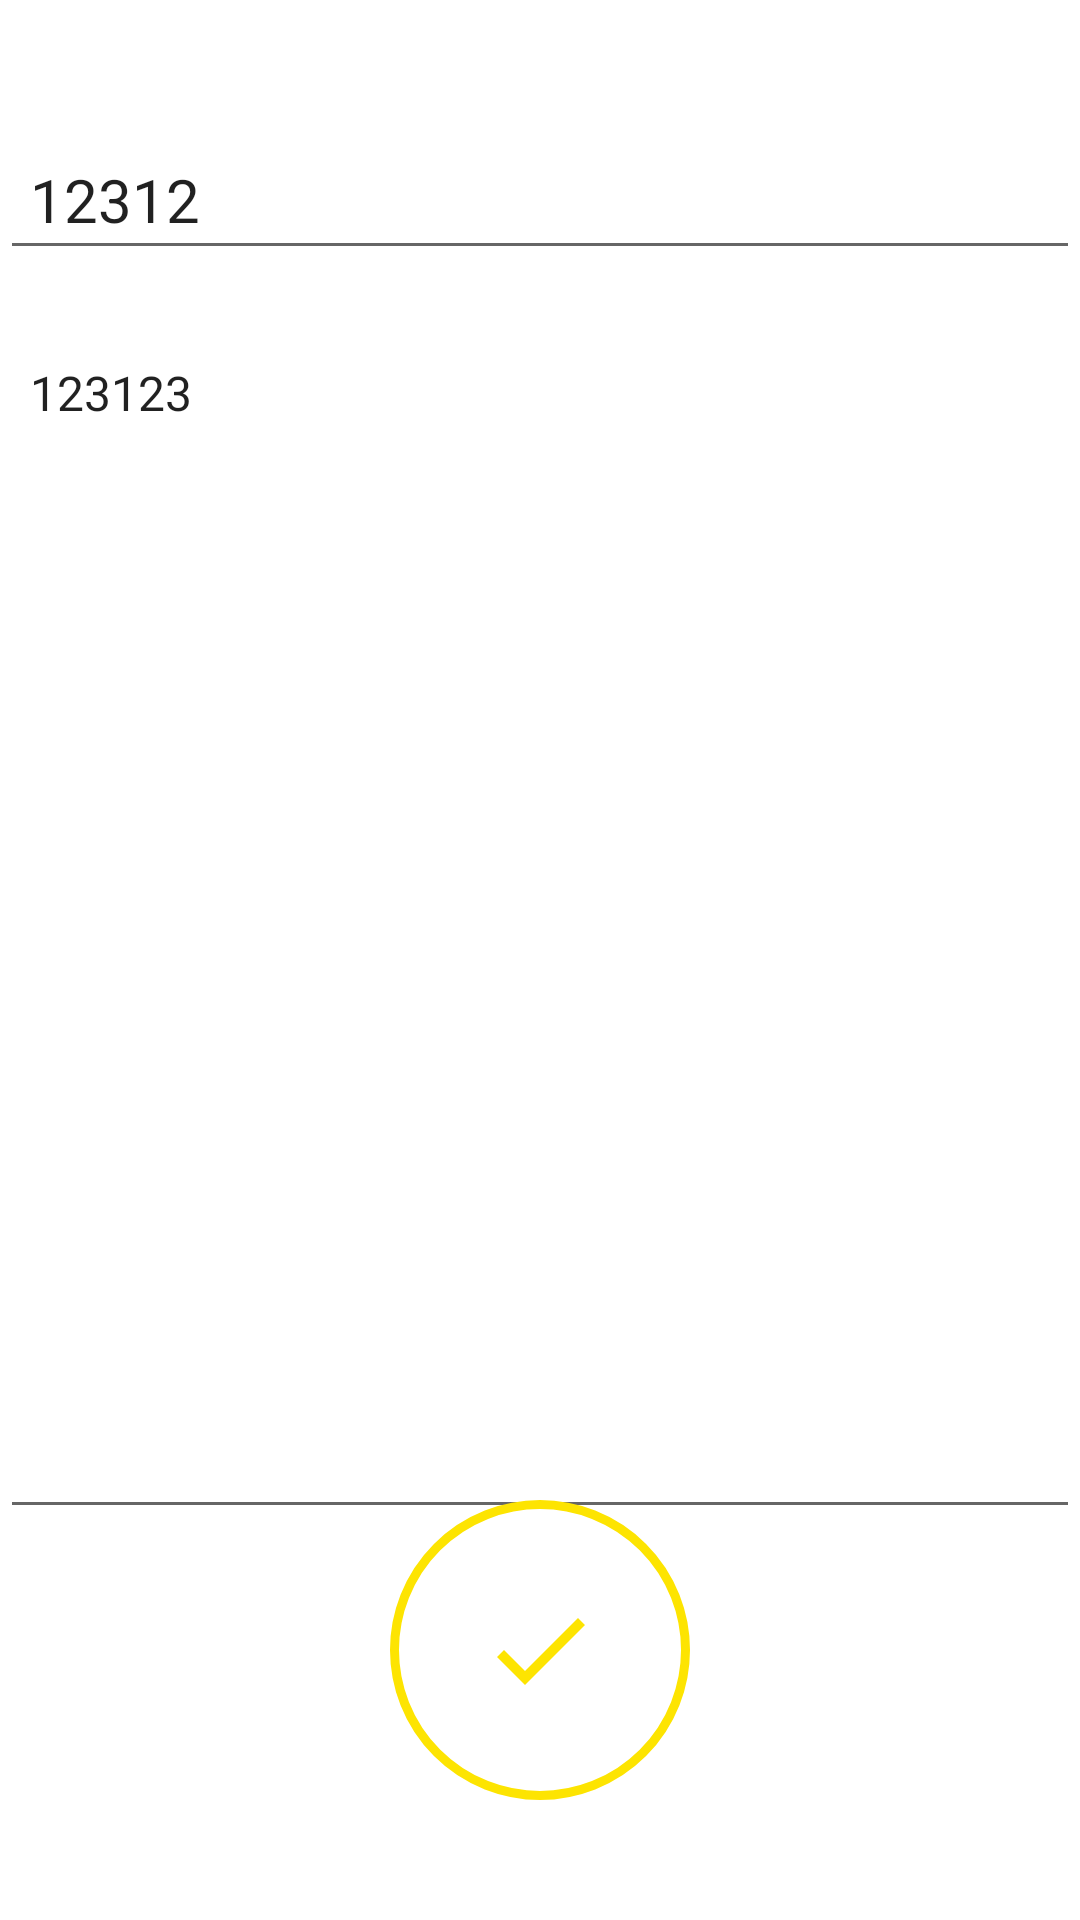

Locate icon controls on the screen. Image size 1080 x 1920, boxes as (left=x1, top=y1, right=x2, bottom=y2).
done: (left=390, top=1500, right=690, bottom=1800)
